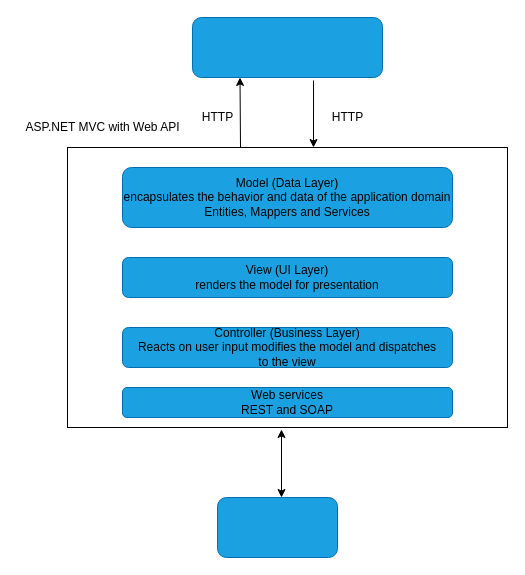
The diagram is 525 pixels wide and 575 high, and some of its shapes have lost their labels. Each missing label, with the box of its shape:
MSSQL Entity Framework: (216, 496, 338, 558)
Web Browser (XHTML, CSS, Javscript, Ajax): (192, 16, 382, 78)
